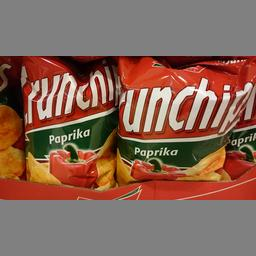chips: (116, 60, 254, 186), (20, 58, 116, 190)
